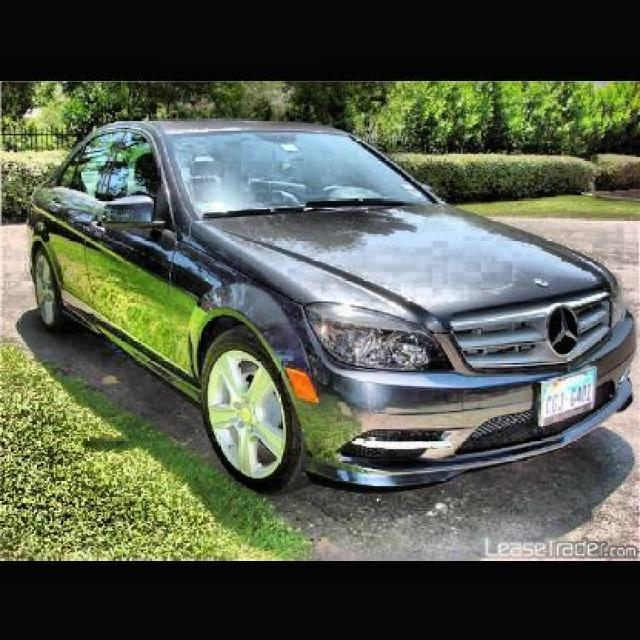black: (27, 114, 634, 470)
